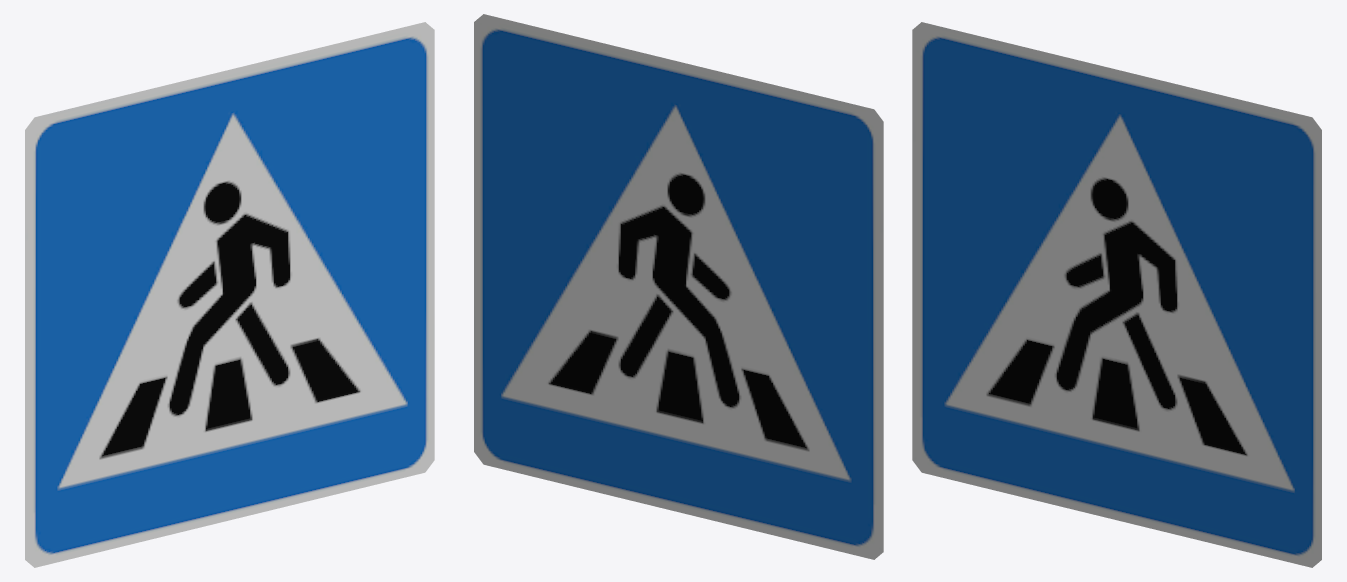
The model's file is SM_Road_Sign_011.fbx.
The picture shows the model from 3 angles, left to right: view 1: azimuth 30°, elevation 25°; view 2: azimuth 150°, elevation 25°; view 3: azimuth 330°, elevation 25°; orthographic projection.
Parts seen in each view (by area): view 1: SM_Road_Sign_011; view 2: SM_Road_Sign_011; view 3: SM_Road_Sign_011.
Part boxes in pixels (<box>): SM_Road_Sign_011: <box>25,22,434,567</box>; SM_Road_Sign_011: <box>474,14,883,559</box>; SM_Road_Sign_011: <box>912,22,1321,567</box>.
Bounding box in the file's own units: 40.95 × 43.04 × 1.89.
